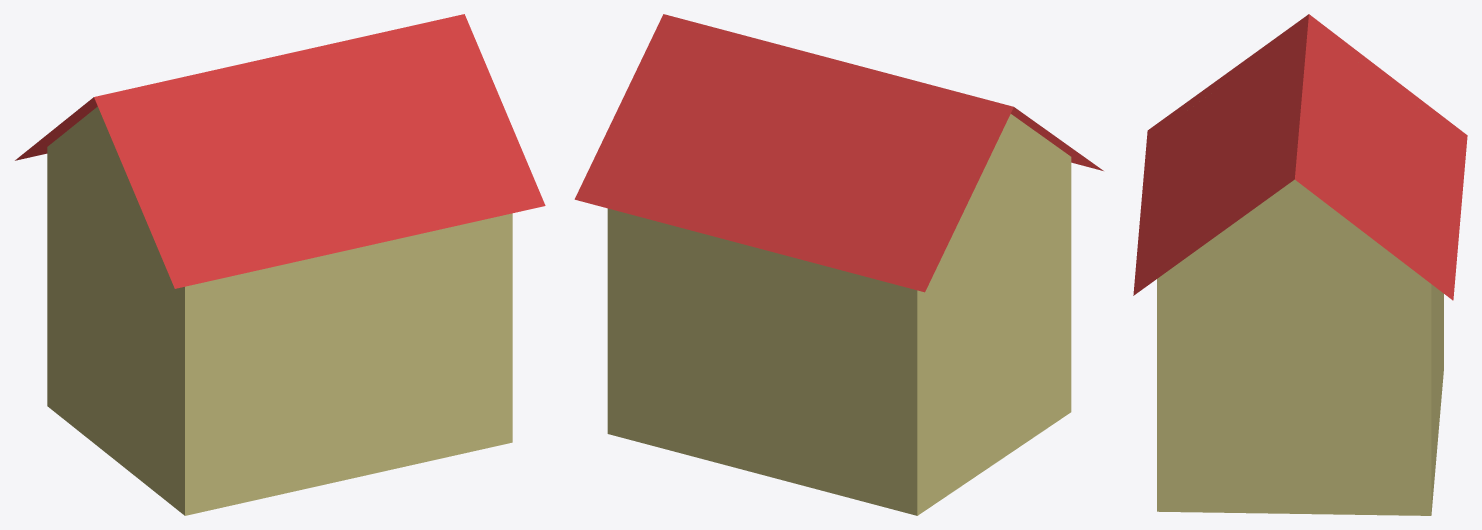
The picture shows the model from 3 angles, left to right: view 1: azimuth 30°, elevation 25°; view 2: azimuth 150°, elevation 25°; view 3: azimuth 270°, elevation 25°; orthographic projection. The views are drawn at different scales.
Size of the model in its own units: 13.25 by 10.98 by 12.47.
